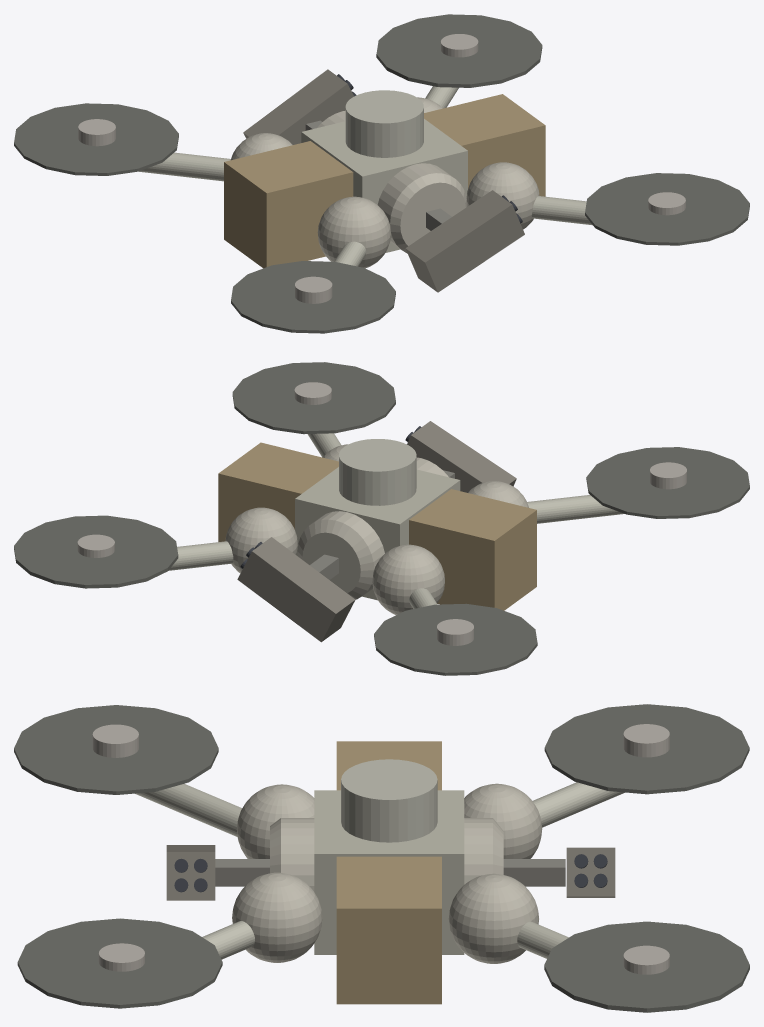
File: drone.fbx
3 views of the same model, one above another, from view 1: azimuth 30°, elevation 25°; view 2: azimuth 150°, elevation 25°; view 3: azimuth 270°, elevation 25° (orthographic). The views are drawn at different scales.
Visible parts, largest first — view 1: Cube.001, Cube.004, Cube.003; view 2: Cube.001, Cube.003, Cube.004; view 3: Cube.001, Cube.004, Cube.003.
Boxes of the visible parts, left/top/right/bottom form: Cube.001: left=14, top=14, right=749, bottom=333; Cube.004: left=405, top=190, right=524, bottom=292; Cube.003: left=243, top=69, right=356, bottom=144; Cube.001: left=14, top=362, right=749, bottom=675; Cube.003: left=237, top=537, right=355, bottom=642; Cube.004: left=405, top=421, right=516, bottom=492; Cube.001: left=14, top=704, right=749, bottom=1012; Cube.004: left=166, top=845, right=215, bottom=900; Cube.003: left=566, top=847, right=615, bottom=897.
Bounding box in the file's own units: 845 × 186 × 863.
